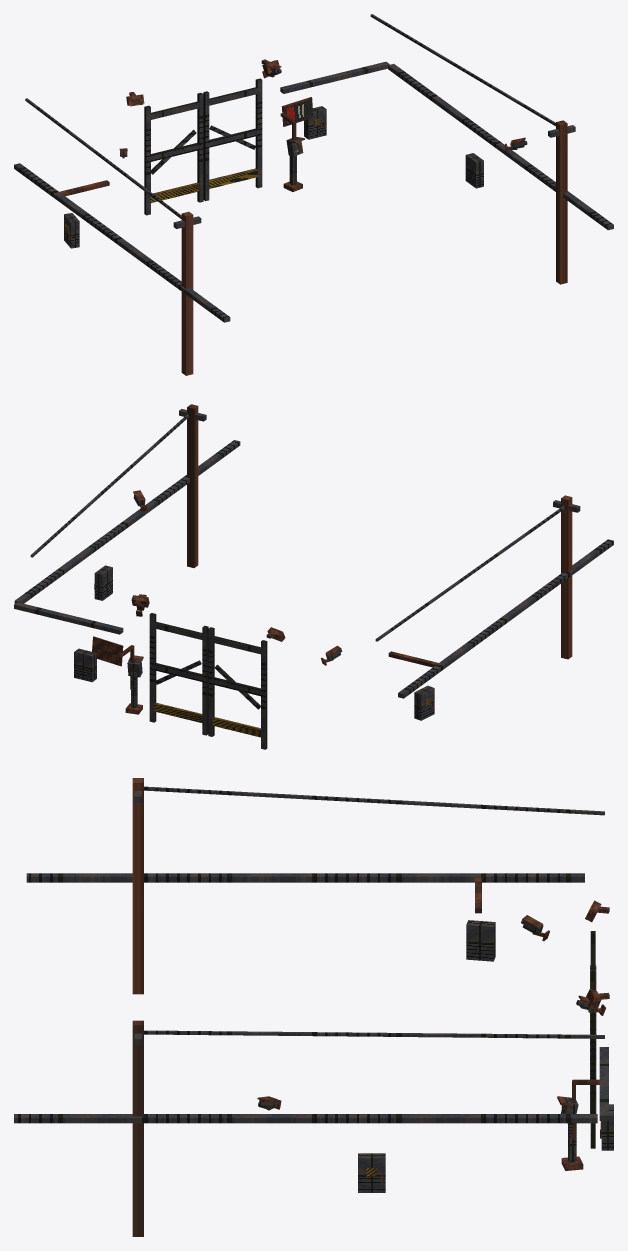
The model's file is etip_acesso_eletrica.obj.
3 renders of one model, top to bottom at view 1: azimuth 30°, elevation 25°; view 2: azimuth 150°, elevation 25°; view 3: azimuth 270°, elevation 25°, orthographic. The views are drawn at different scales.
Parts seen in each view (by area): view 1: PS2_Mat_AcoEscuro_Group, PS2_Mat_Metal_Ferrugem_Group, PS2_Mat_Advertencia_Group; view 2: PS2_Mat_AcoEscuro_Group, PS2_Mat_Metal_Ferrugem_Group, PS2_Mat_Advertencia_Group; view 3: PS2_Mat_AcoEscuro_Group, PS2_Mat_Metal_Ferrugem_Group.
Part boxes in pixels (x1,y1,x2,y2): PS2_Mat_AcoEscuro_Group: (14,14,613,322); PS2_Mat_Metal_Ferrugem_Group: (59,59,567,375); PS2_Mat_Advertencia_Group: (65,68,321,232); PS2_Mat_AcoEscuro_Group: (14,409,613,749); PS2_Mat_Metal_Ferrugem_Group: (92,404,572,714); PS2_Mat_Advertencia_Group: (154,697,431,737); PS2_Mat_AcoEscuro_Group: (14,786,613,1192); PS2_Mat_Metal_Ferrugem_Group: (132,778,609,1236).
Bounding box in the file's own units: 12.05 × 4.6 × 11.82.
Materials: 3 (3 with a texture image).
